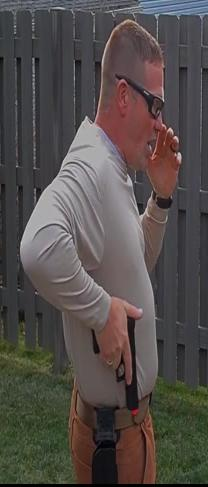pistol: (90, 303, 141, 416)
